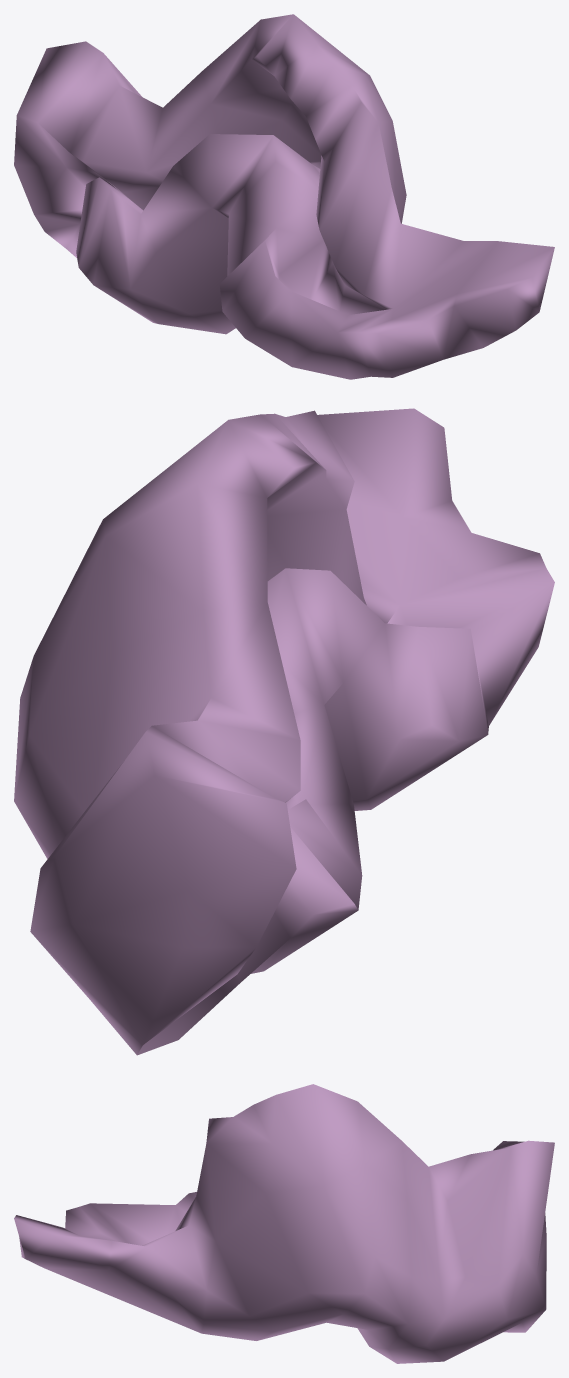
3 views of the same model, one above another, from view 1: azimuth 30°, elevation 25°; view 2: azimuth 150°, elevation 25°; view 3: azimuth 270°, elevation 25° (orthographic). The views are drawn at different scales.
Visible parts, largest first — view 1: 右侧詹森中间沟; view 2: 右侧詹森中间沟; view 3: 右侧詹森中间沟.
Part boxes in pixels (x1=…): 右侧詹森中间沟: x1=14, y1=14, x2=554, y2=379; 右侧詹森中间沟: x1=14, y1=408, x2=554, y2=1055; 右侧詹森中间沟: x1=14, y1=1084, x2=554, y2=1363.
Bounding box in the file's own units: 0.0201 × 0.0243 × 0.0417.
